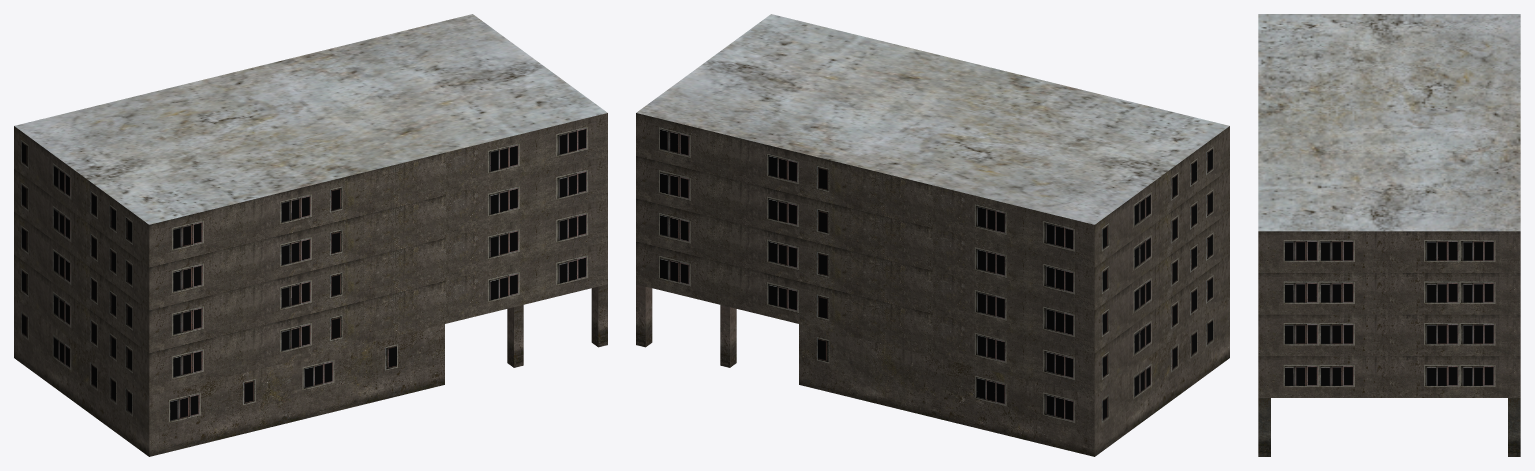
The model's file is Apt2_LOD.FBX.
3 views of the same model, side by side, from view 1: azimuth 30°, elevation 25°; view 2: azimuth 150°, elevation 25°; view 3: azimuth 270°, elevation 25° (orthographic). The views are drawn at different scales.
Visible parts, largest first — view 1: Apt2_LOD; view 2: Apt2_LOD; view 3: Apt2_LOD.
Part boxes in pixels (x1,y1,x2,y2): Apt2_LOD: (14,14,607,456); Apt2_LOD: (636,14,1229,456); Apt2_LOD: (1258,14,1520,456).
Size of the model in its own units: 3586 by 1734 by 1830.
